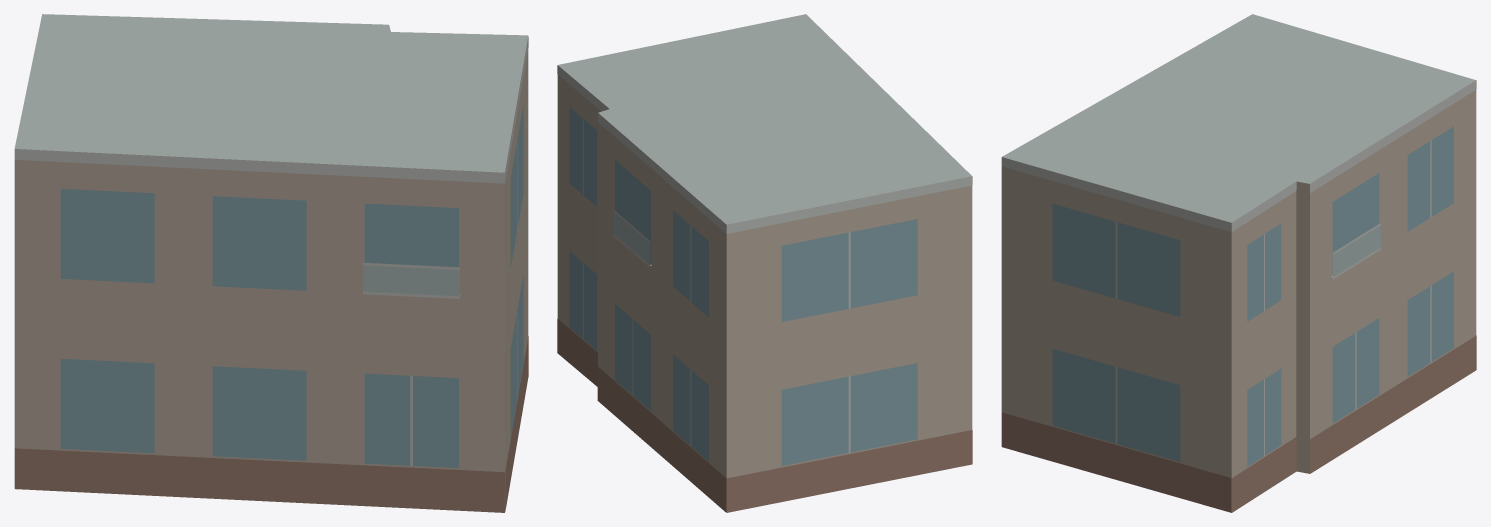
The model's file is survey-upis-32502677.glb.
The picture shows the model from 3 angles, left to right: view 1: azimuth 30°, elevation 25°; view 2: azimuth 150°, elevation 25°; view 3: azimuth 270°, elevation 25°; orthographic projection. The views are drawn at different scales.
Visible parts, largest first — view 1: survey-upis-32502677.tmp; view 2: survey-upis-32502677.tmp; view 3: survey-upis-32502677.tmp.
Boxes of the visible parts, left/top/right/bottom form: survey-upis-32502677.tmp: left=14, top=14, right=528, bottom=512; survey-upis-32502677.tmp: left=557, top=14, right=972, bottom=512; survey-upis-32502677.tmp: left=1001, top=14, right=1476, bottom=512.
Size of the model in its own units: 11.75 by 7.6 by 11.28.
